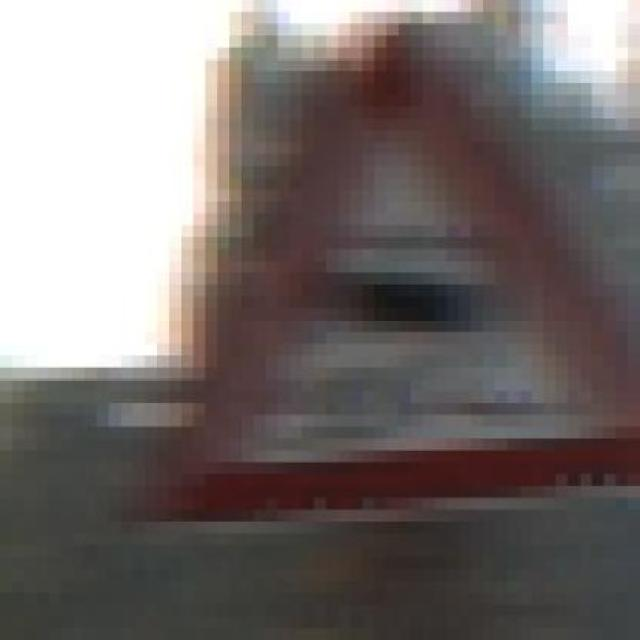Slippery Road Ahead: (145, 47, 628, 545)
